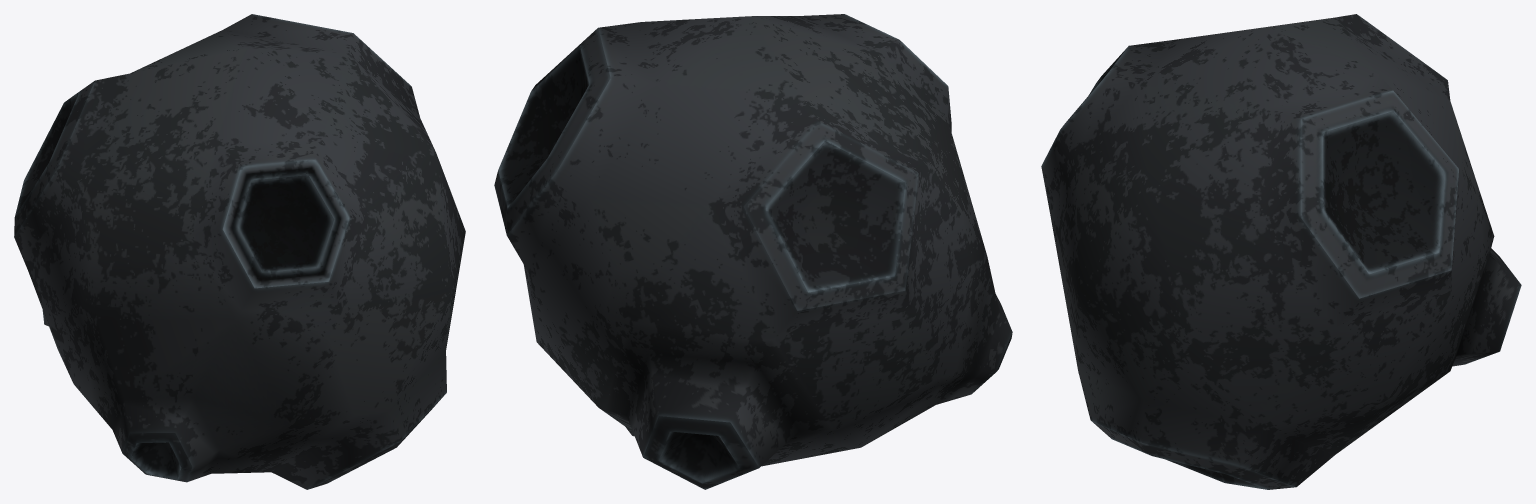
The picture shows the model from 3 angles, left to right: view 1: azimuth 30°, elevation 25°; view 2: azimuth 150°, elevation 25°; view 3: azimuth 270°, elevation 25°; orthographic projection. The views are drawn at different scales.
Visible parts, largest first — view 1: Icosphere; view 2: Icosphere; view 3: Icosphere.
Boxes of the visible parts, bbox=[...] form: Icosphere: bbox=[14, 14, 465, 489]; Icosphere: bbox=[494, 14, 1012, 489]; Icosphere: bbox=[1041, 14, 1521, 489].
Size of the model in its own units: 3.09 by 3.3 by 3.29.
1 material, 1 textured.
